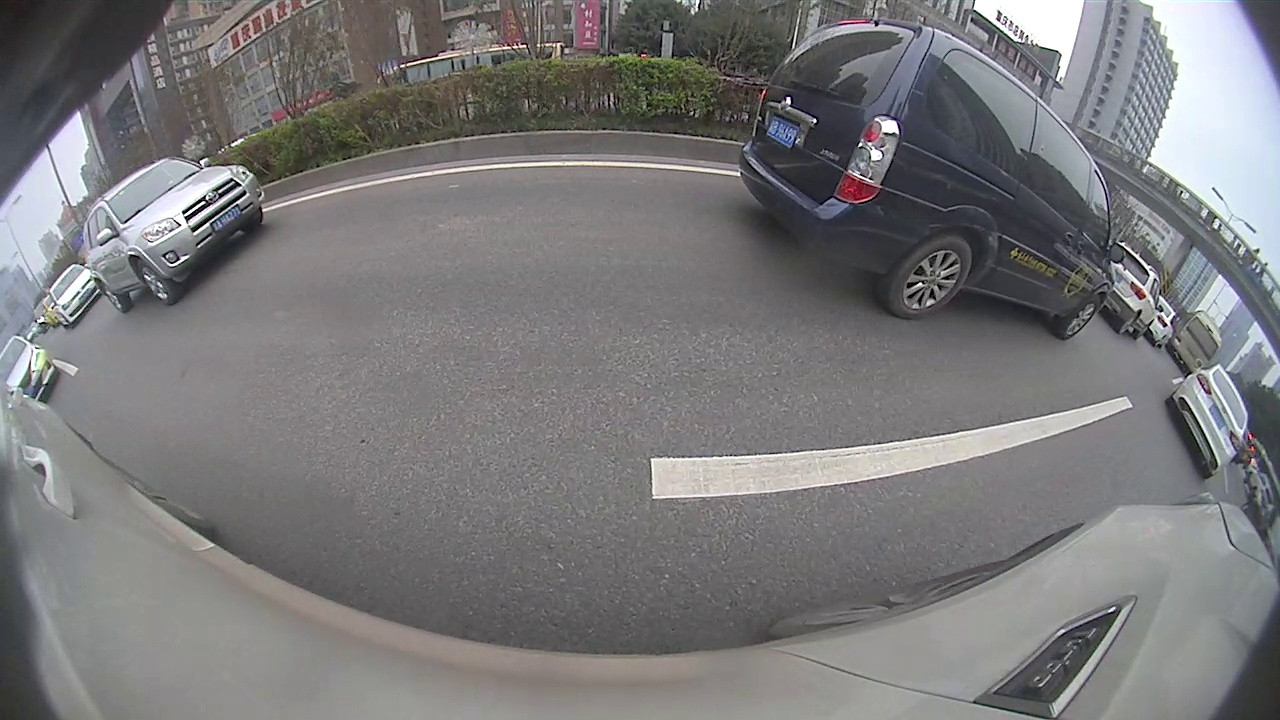car: (737, 17, 1127, 341), (82, 153, 264, 312), (1163, 361, 1250, 480)
front: (1057, 293, 1103, 341), (136, 259, 175, 302)
rear: (887, 235, 967, 319)
